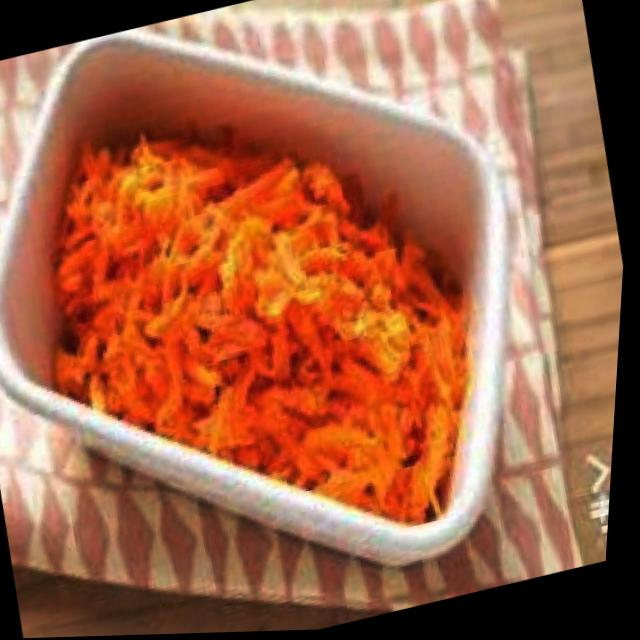carrot_eggs: (0, 51, 529, 609)
